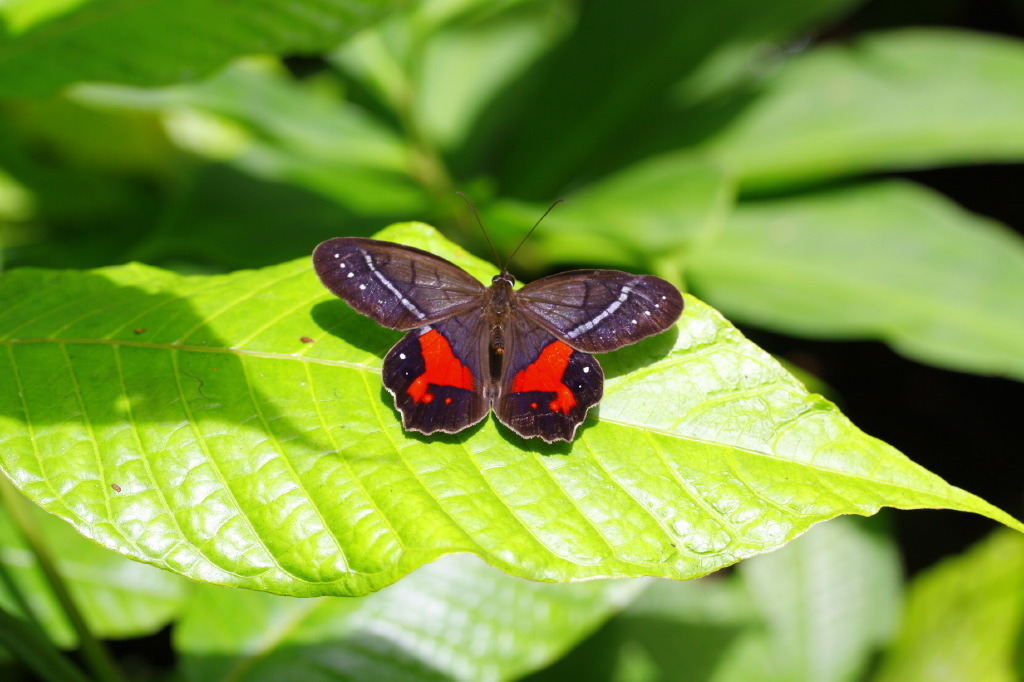Butterfly: (300, 201, 679, 475)
